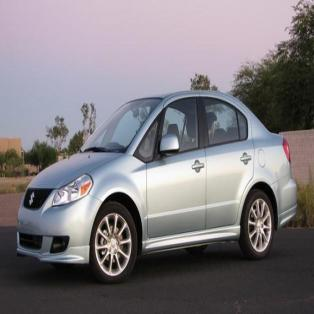Auto: (15, 89, 298, 286)
